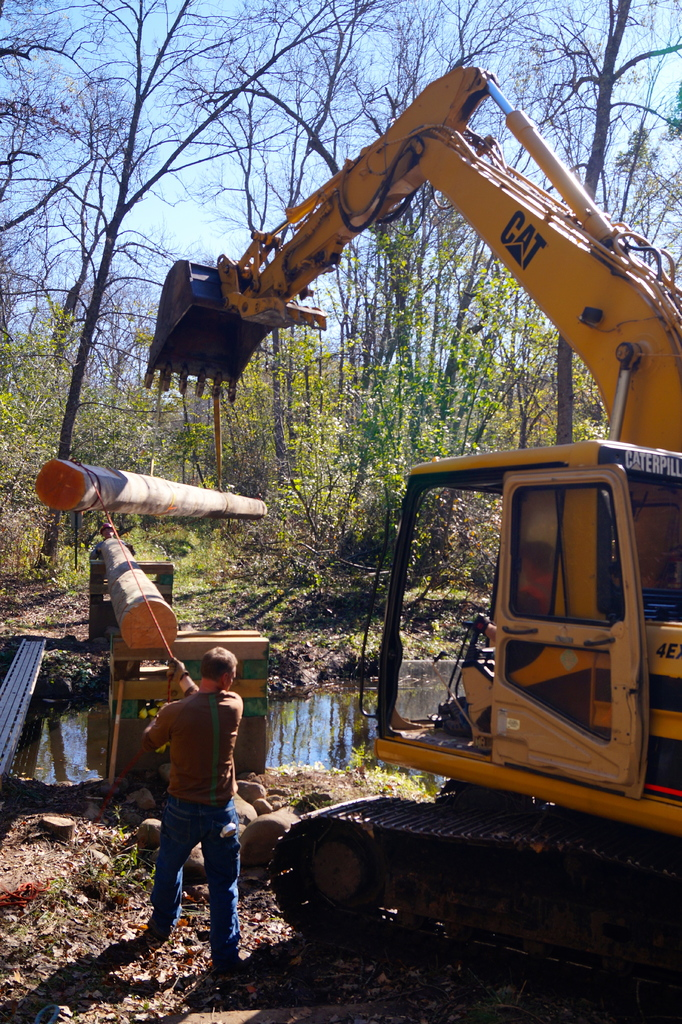Tree: (0, 0, 681, 646)
